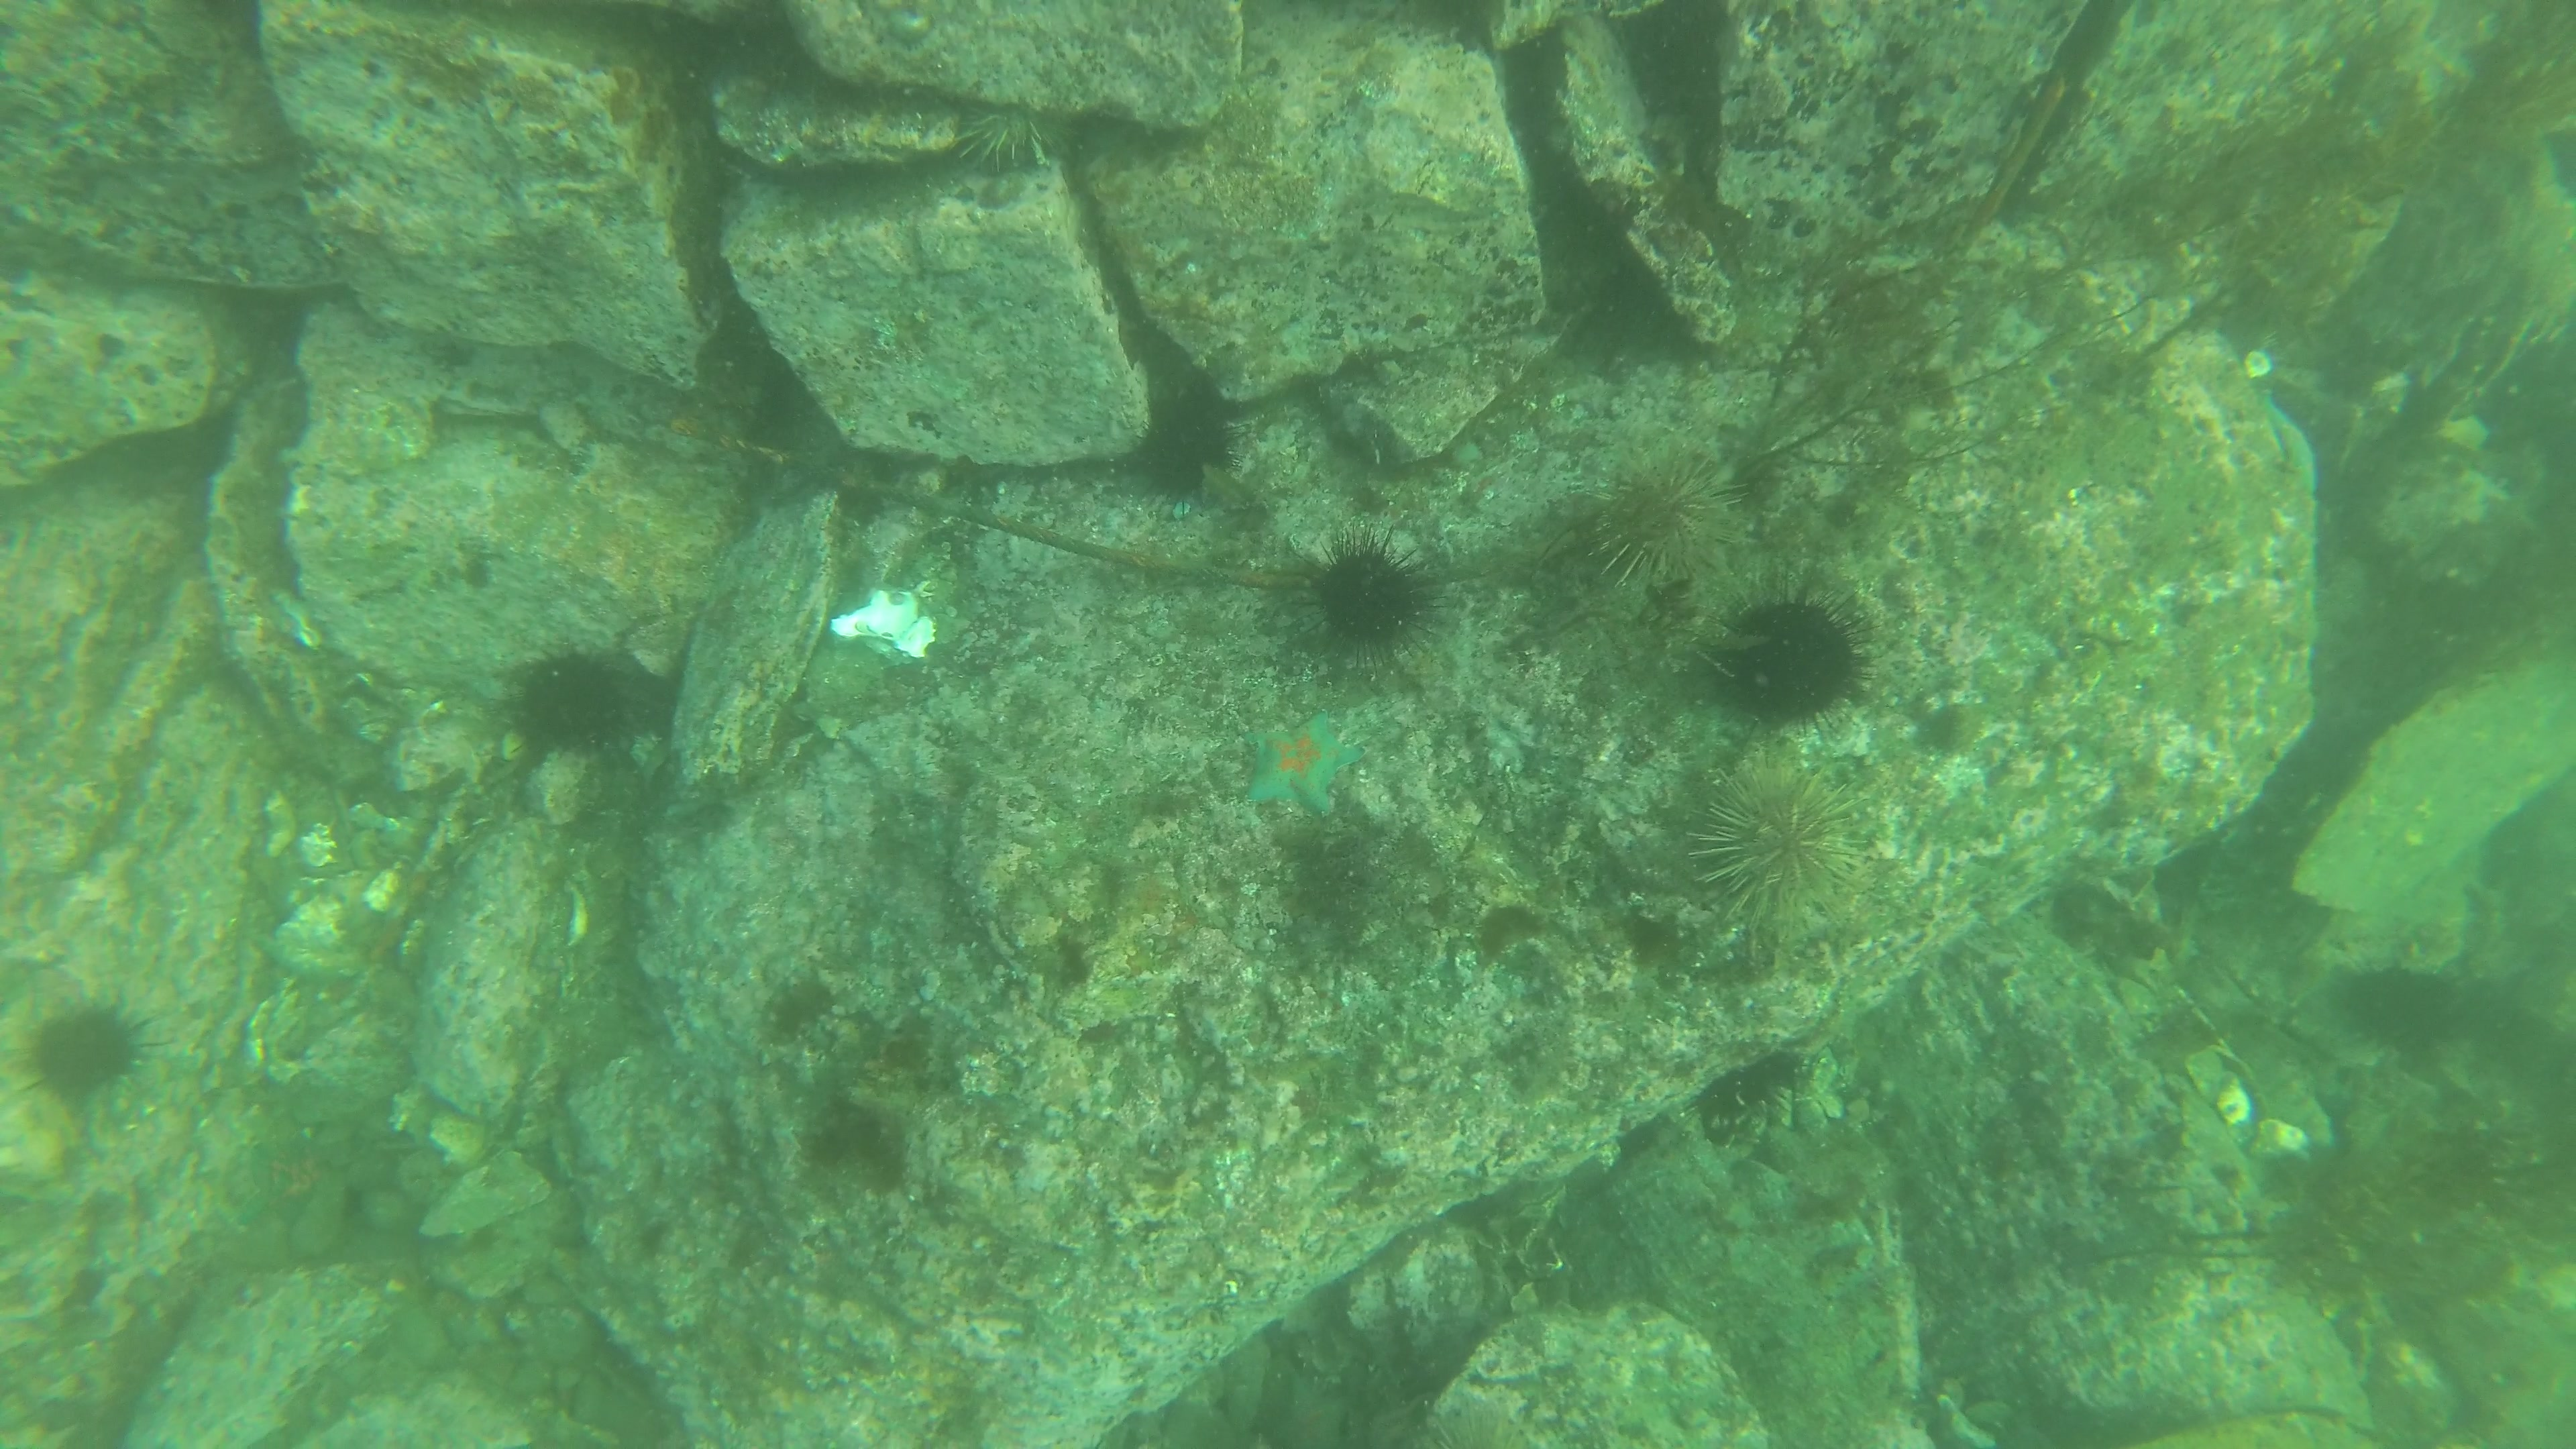echinus: (1693, 564, 1875, 740), (1691, 752, 1870, 924), (1587, 441, 1746, 596), (1302, 531, 1445, 671), (511, 639, 632, 761), (21, 1000, 147, 1109), (962, 94, 1081, 172), (1143, 410, 1237, 499)
starfish: (1237, 709, 1369, 810), (230, 1132, 338, 1228)
